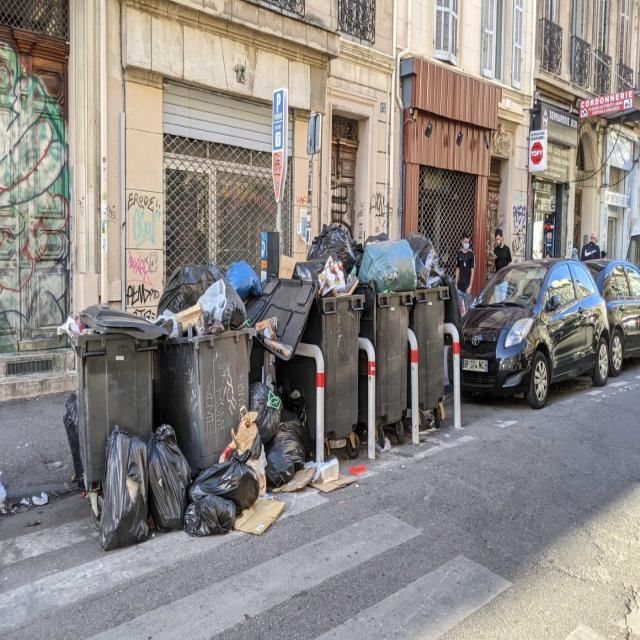garbage: (303, 219, 448, 297), (102, 426, 190, 544), (157, 263, 260, 336), (195, 440, 264, 542), (250, 376, 312, 487), (60, 385, 86, 500), (312, 453, 368, 502)
